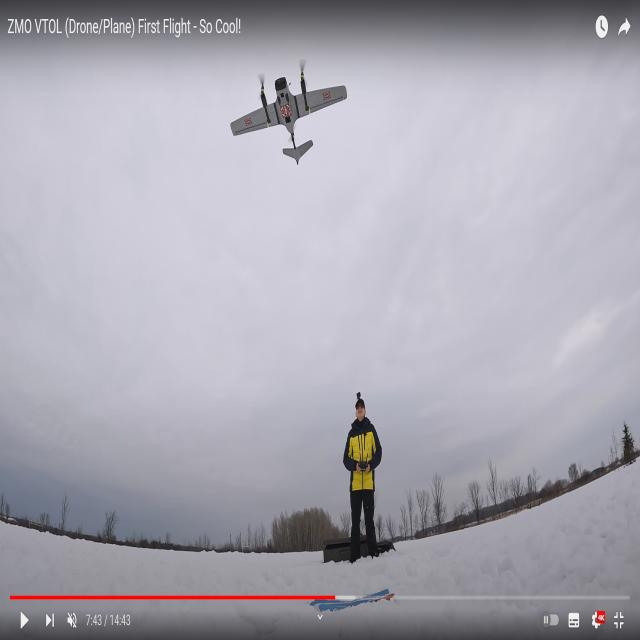iha: (256, 30, 314, 60)
